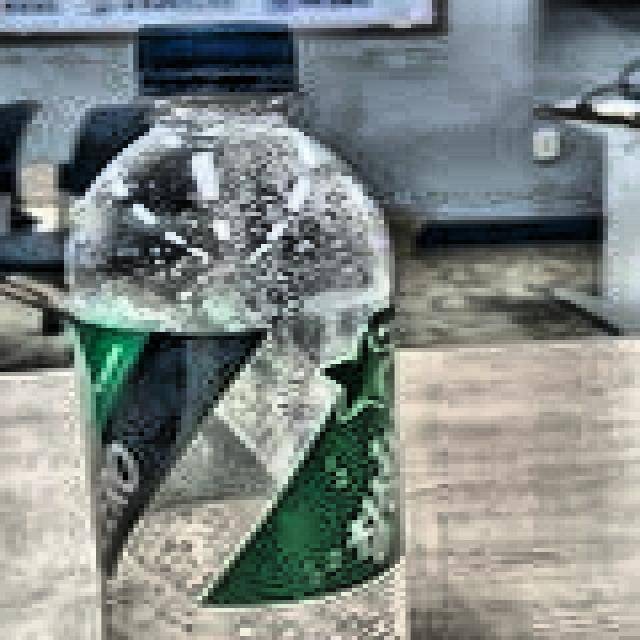plastic: (59, 4, 416, 640)
